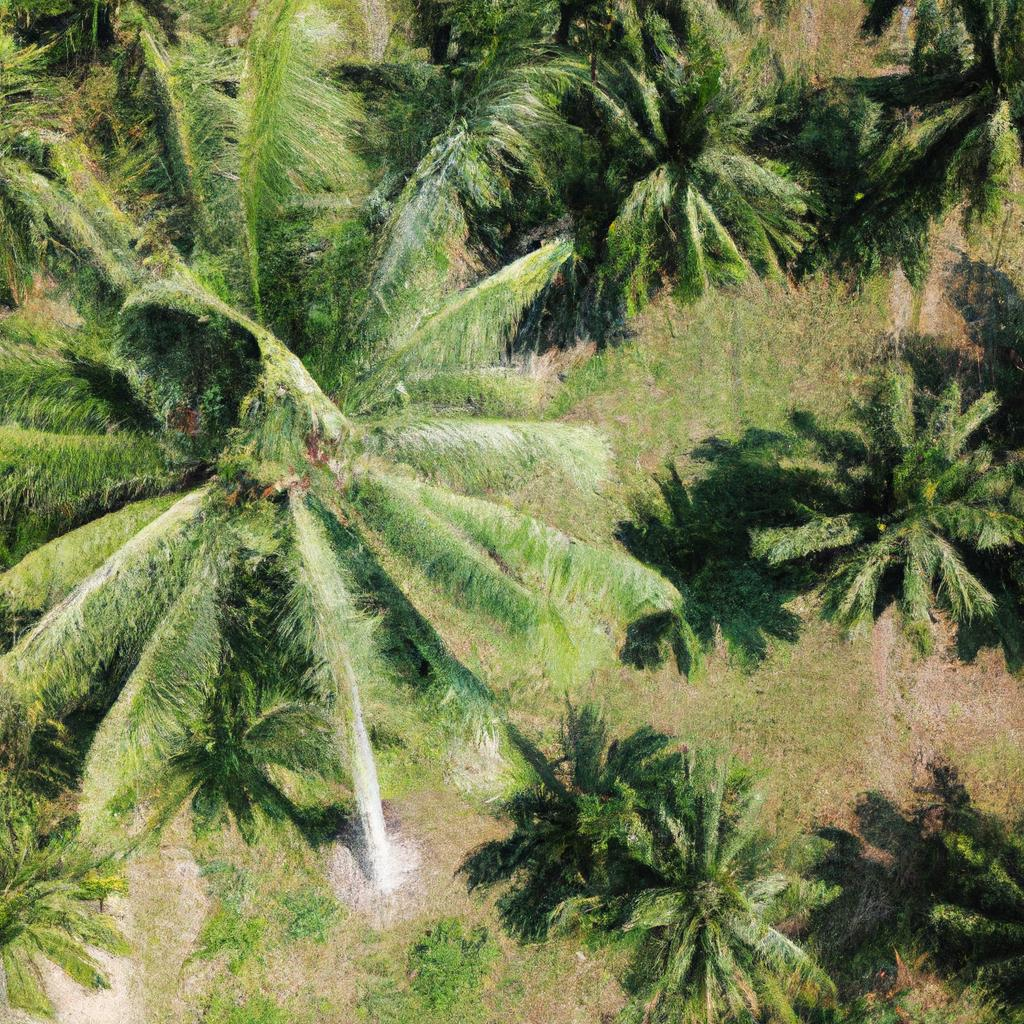coconut_tree: (0, 0, 547, 823)
